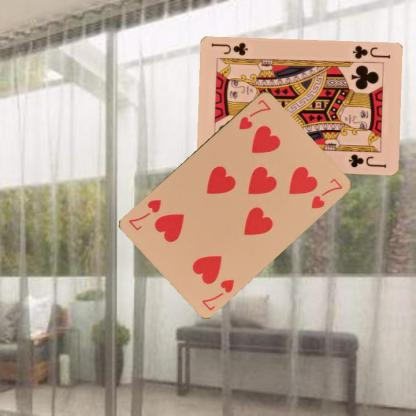7h: (199, 276, 236, 312), (236, 96, 272, 131)
Jc: (350, 43, 391, 60)
